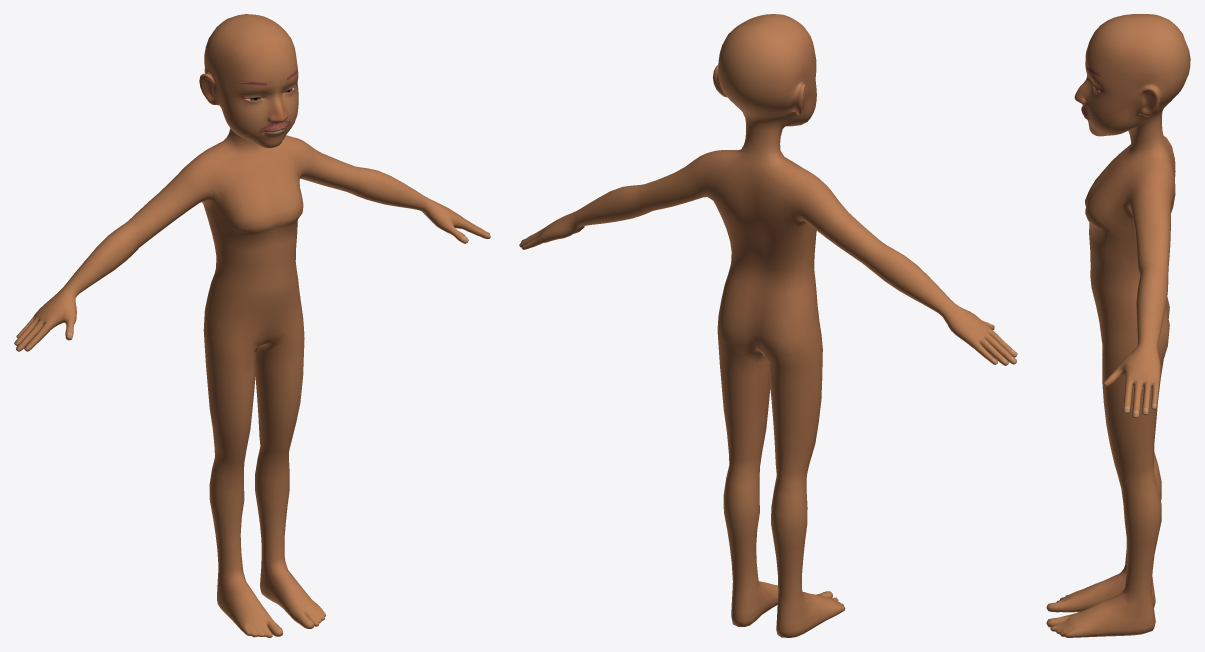
The model's file is frame_0027.glb.
3 views of the same model, side by side, from view 1: azimuth 30°, elevation 25°; view 2: azimuth 150°, elevation 25°; view 3: azimuth 270°, elevation 25° (orthographic). The views are drawn at different scales.
Parts seen in each view (by area): view 1: frame_0027_head_geo; view 2: frame_0027_head_geo; view 3: frame_0027_head_geo.
Part boxes in pixels (bbox=[...]): frame_0027_head_geo: bbox=[14, 14, 490, 637]; frame_0027_head_geo: bbox=[519, 14, 1017, 637]; frame_0027_head_geo: bbox=[1046, 14, 1190, 637].
Bounding box in the file's own units: 1.28 × 1.5 × 0.3253.
Materials: 3 (3 with a texture image).
